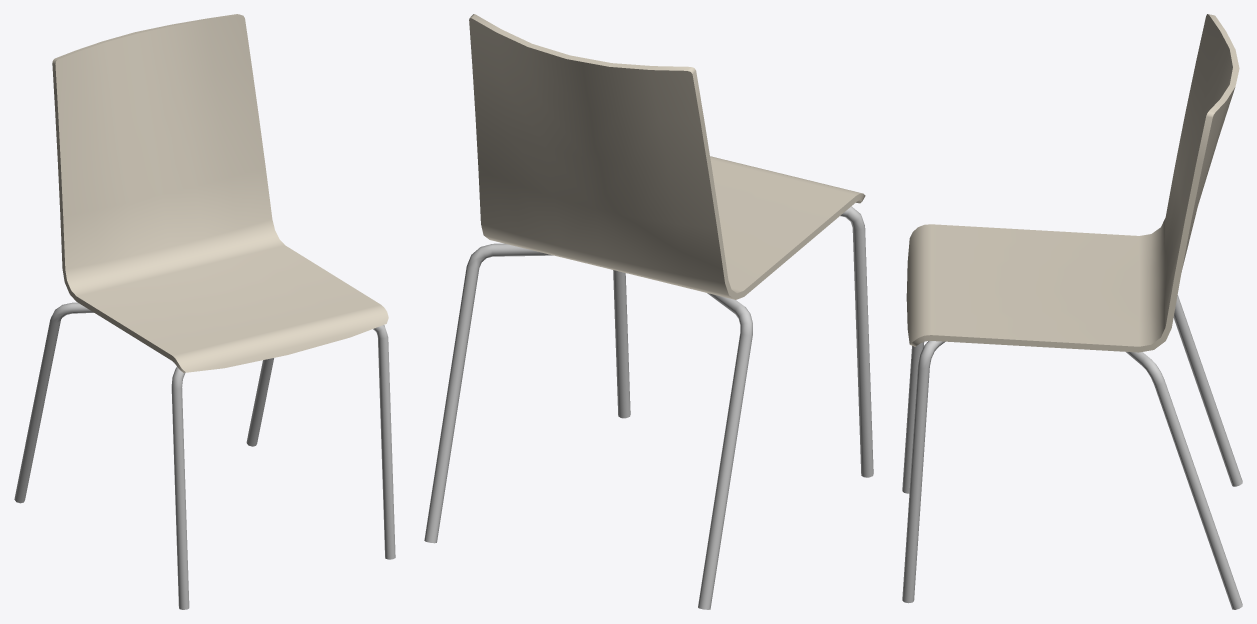
Rendered from form-tuoli.fbx.
3 views of the same model, side by side, from view 1: azimuth 30°, elevation 25°; view 2: azimuth 150°, elevation 25°; view 3: azimuth 270°, elevation 25° (orthographic). The views are drawn at different scales.
Visible parts, largest first — view 1: Seat, FrontFrame, BackFrame; view 2: Seat, BackFrame, FrontFrame; view 3: Seat, BackFrame, FrontFrame.
Part boxes in pixels (x1,y1,x2,y2): Seat: (52, 14, 388, 372); FrontFrame: (171, 325, 395, 609); BackFrame: (14, 302, 273, 503); Seat: (469, 14, 865, 299); BackFrame: (424, 243, 752, 609); FrontFrame: (613, 206, 873, 477); Seat: (906, 14, 1239, 352); BackFrame: (1126, 295, 1242, 609); FrontFrame: (902, 341, 945, 603).
Size of the model in its own units: 96.71 by 171 by 109.
